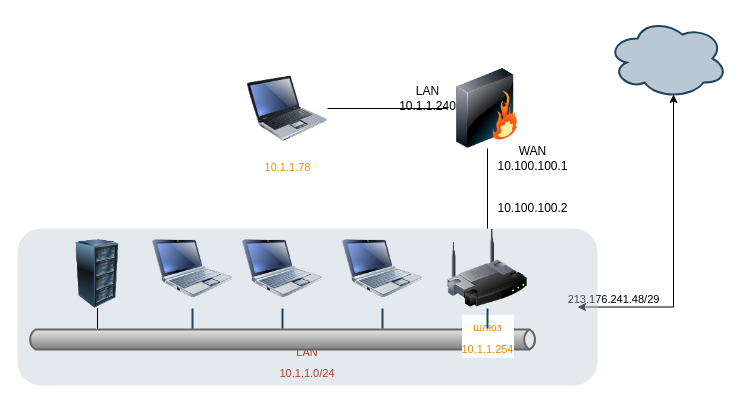
Some shapes in this 745 by 402 pixel diagram are drawn without their labels. The shapes that lost their labels are listed below. From the top down, each one's centre as x and y in pixels, then its label:
At (667,58): "Internet".
At (97,273): "akon-srv-dc01 10.1.1.253".
